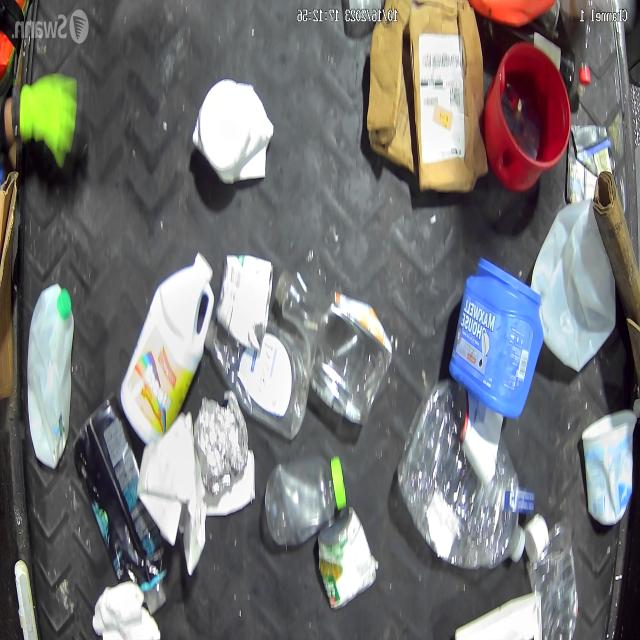can: (302, 504, 376, 615), (214, 251, 273, 351)
milk_jug: (119, 251, 217, 438), (531, 193, 621, 371), (21, 280, 79, 468)
non_white_jug: (441, 256, 546, 408)
plastic_bottle: (397, 376, 526, 565), (276, 265, 392, 427), (204, 315, 309, 438), (264, 454, 349, 548), (531, 516, 588, 636)
